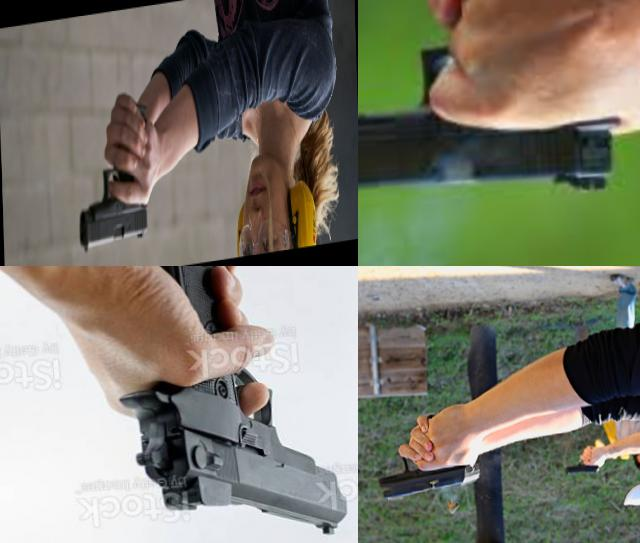handgun: (100, 266, 352, 543), (358, 0, 640, 215), (74, 94, 152, 257), (368, 405, 478, 504), (560, 449, 602, 476)
